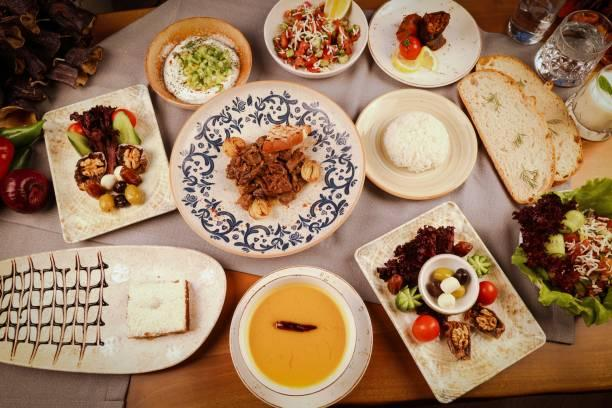Braised Crucian Carp: (351, 203, 542, 408), (166, 79, 357, 257), (1, 243, 226, 377), (40, 83, 176, 243), (226, 265, 369, 406), (355, 87, 478, 199), (144, 16, 251, 110), (367, 0, 480, 88), (262, 0, 369, 79)
